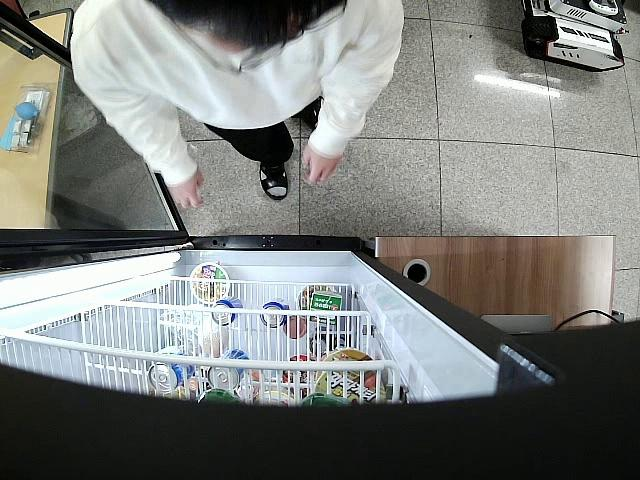00_hand: (301, 142, 343, 187), (167, 163, 206, 209)
